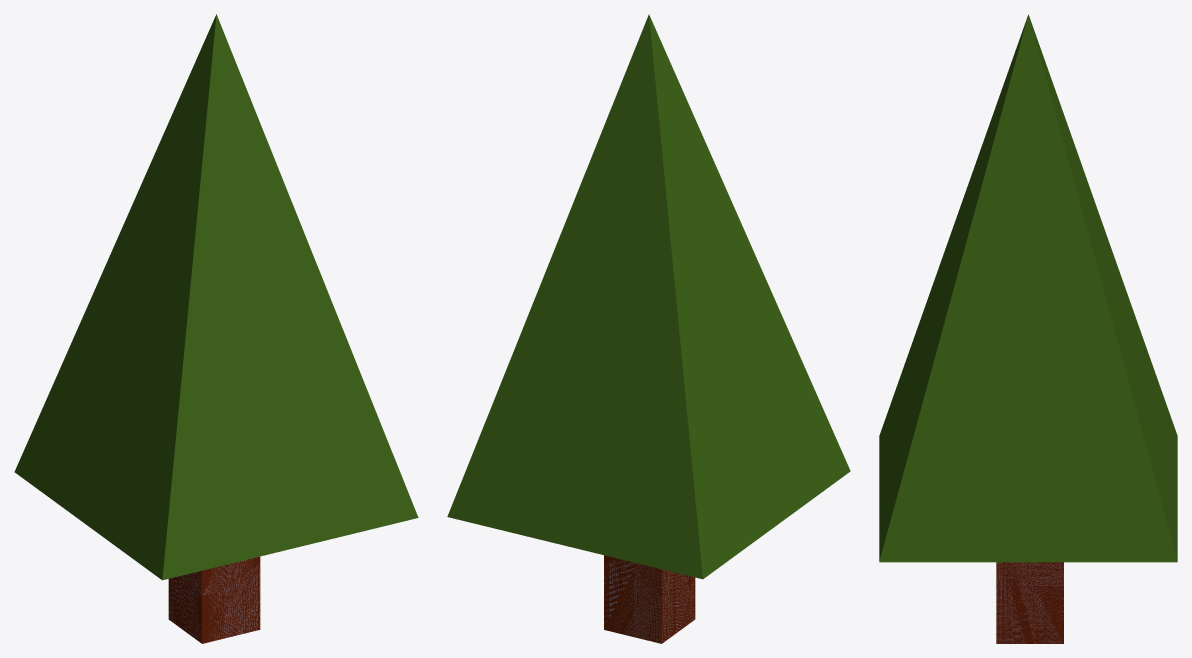
Rendered from tree.dae.
3 views of the same model, side by side, from view 1: azimuth 30°, elevation 25°; view 2: azimuth 150°, elevation 25°; view 3: azimuth 270°, elevation 25° (orthographic).
Visible parts, largest first — view 1: SketchUp (×2); view 2: SketchUp (×2); view 3: SketchUp (×2).
Part boxes in pixels (x1,y1,x2,y2): SketchUp (×2): (14, 14, 418, 643); SketchUp (×2): (447, 14, 850, 643); SketchUp (×2): (879, 14, 1177, 643).
Bounding box in the file's own units: 535 × 535 × 1219.
